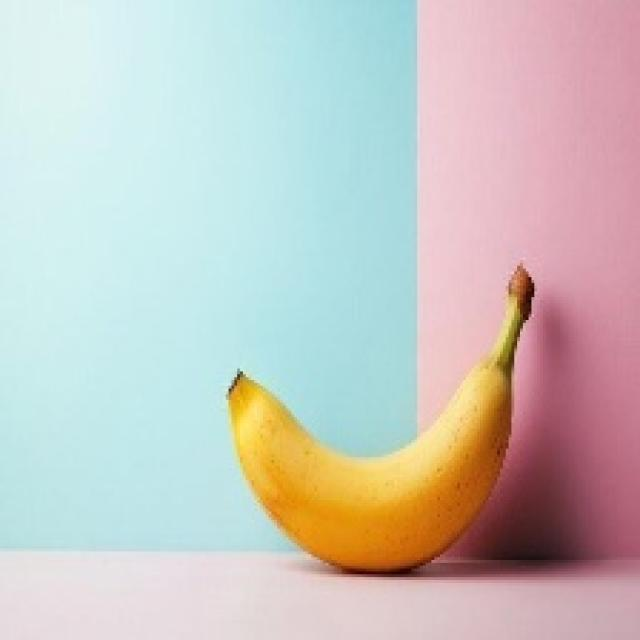Banana: (223, 260, 534, 571)
